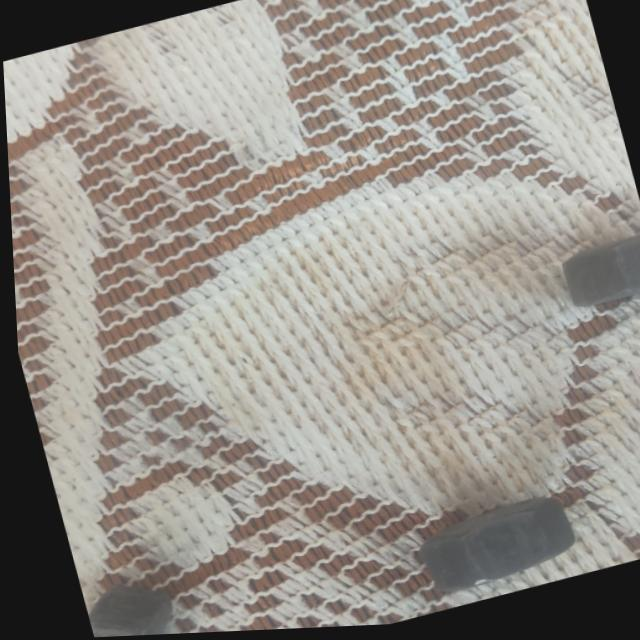disinfected nut: (415, 501, 569, 596), (558, 240, 640, 312), (81, 586, 166, 638)
